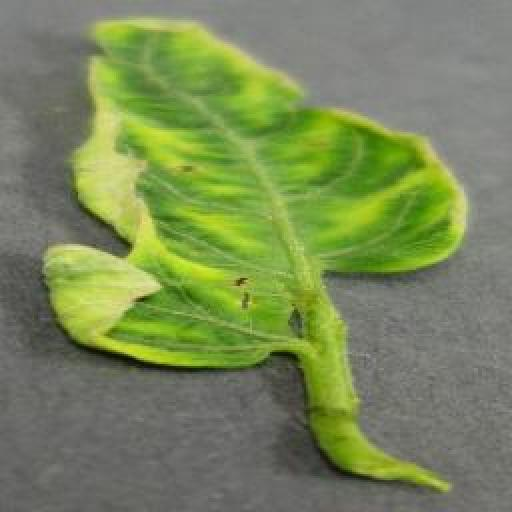disease_tomato: (41, 13, 468, 368)
